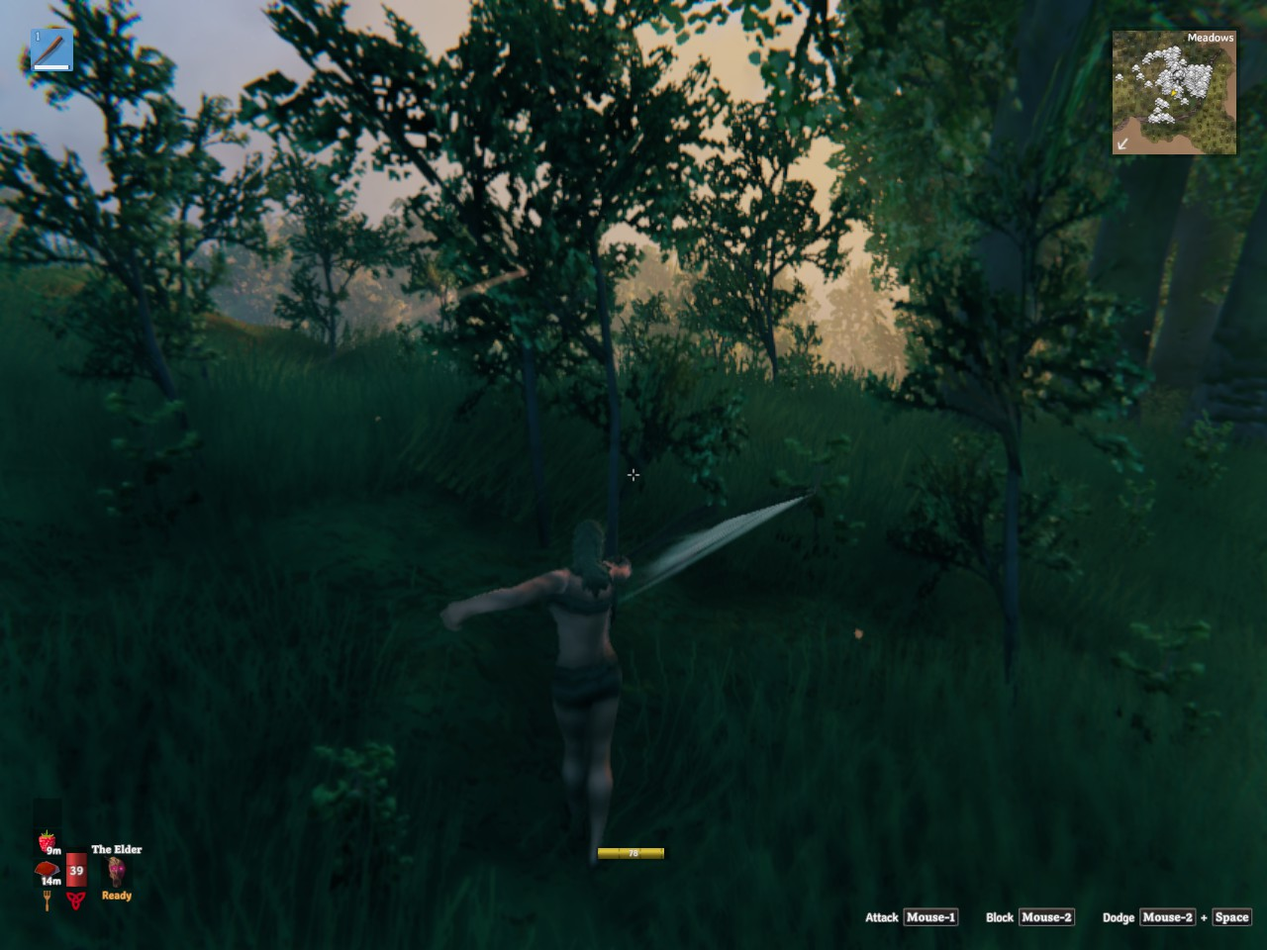Food Indicator: (35, 861, 59, 885), (38, 831, 59, 853)
Health Bar: (66, 849, 87, 889)
Hotbar: (28, 28, 73, 70)
Stamina Bar: (597, 847, 665, 859)
